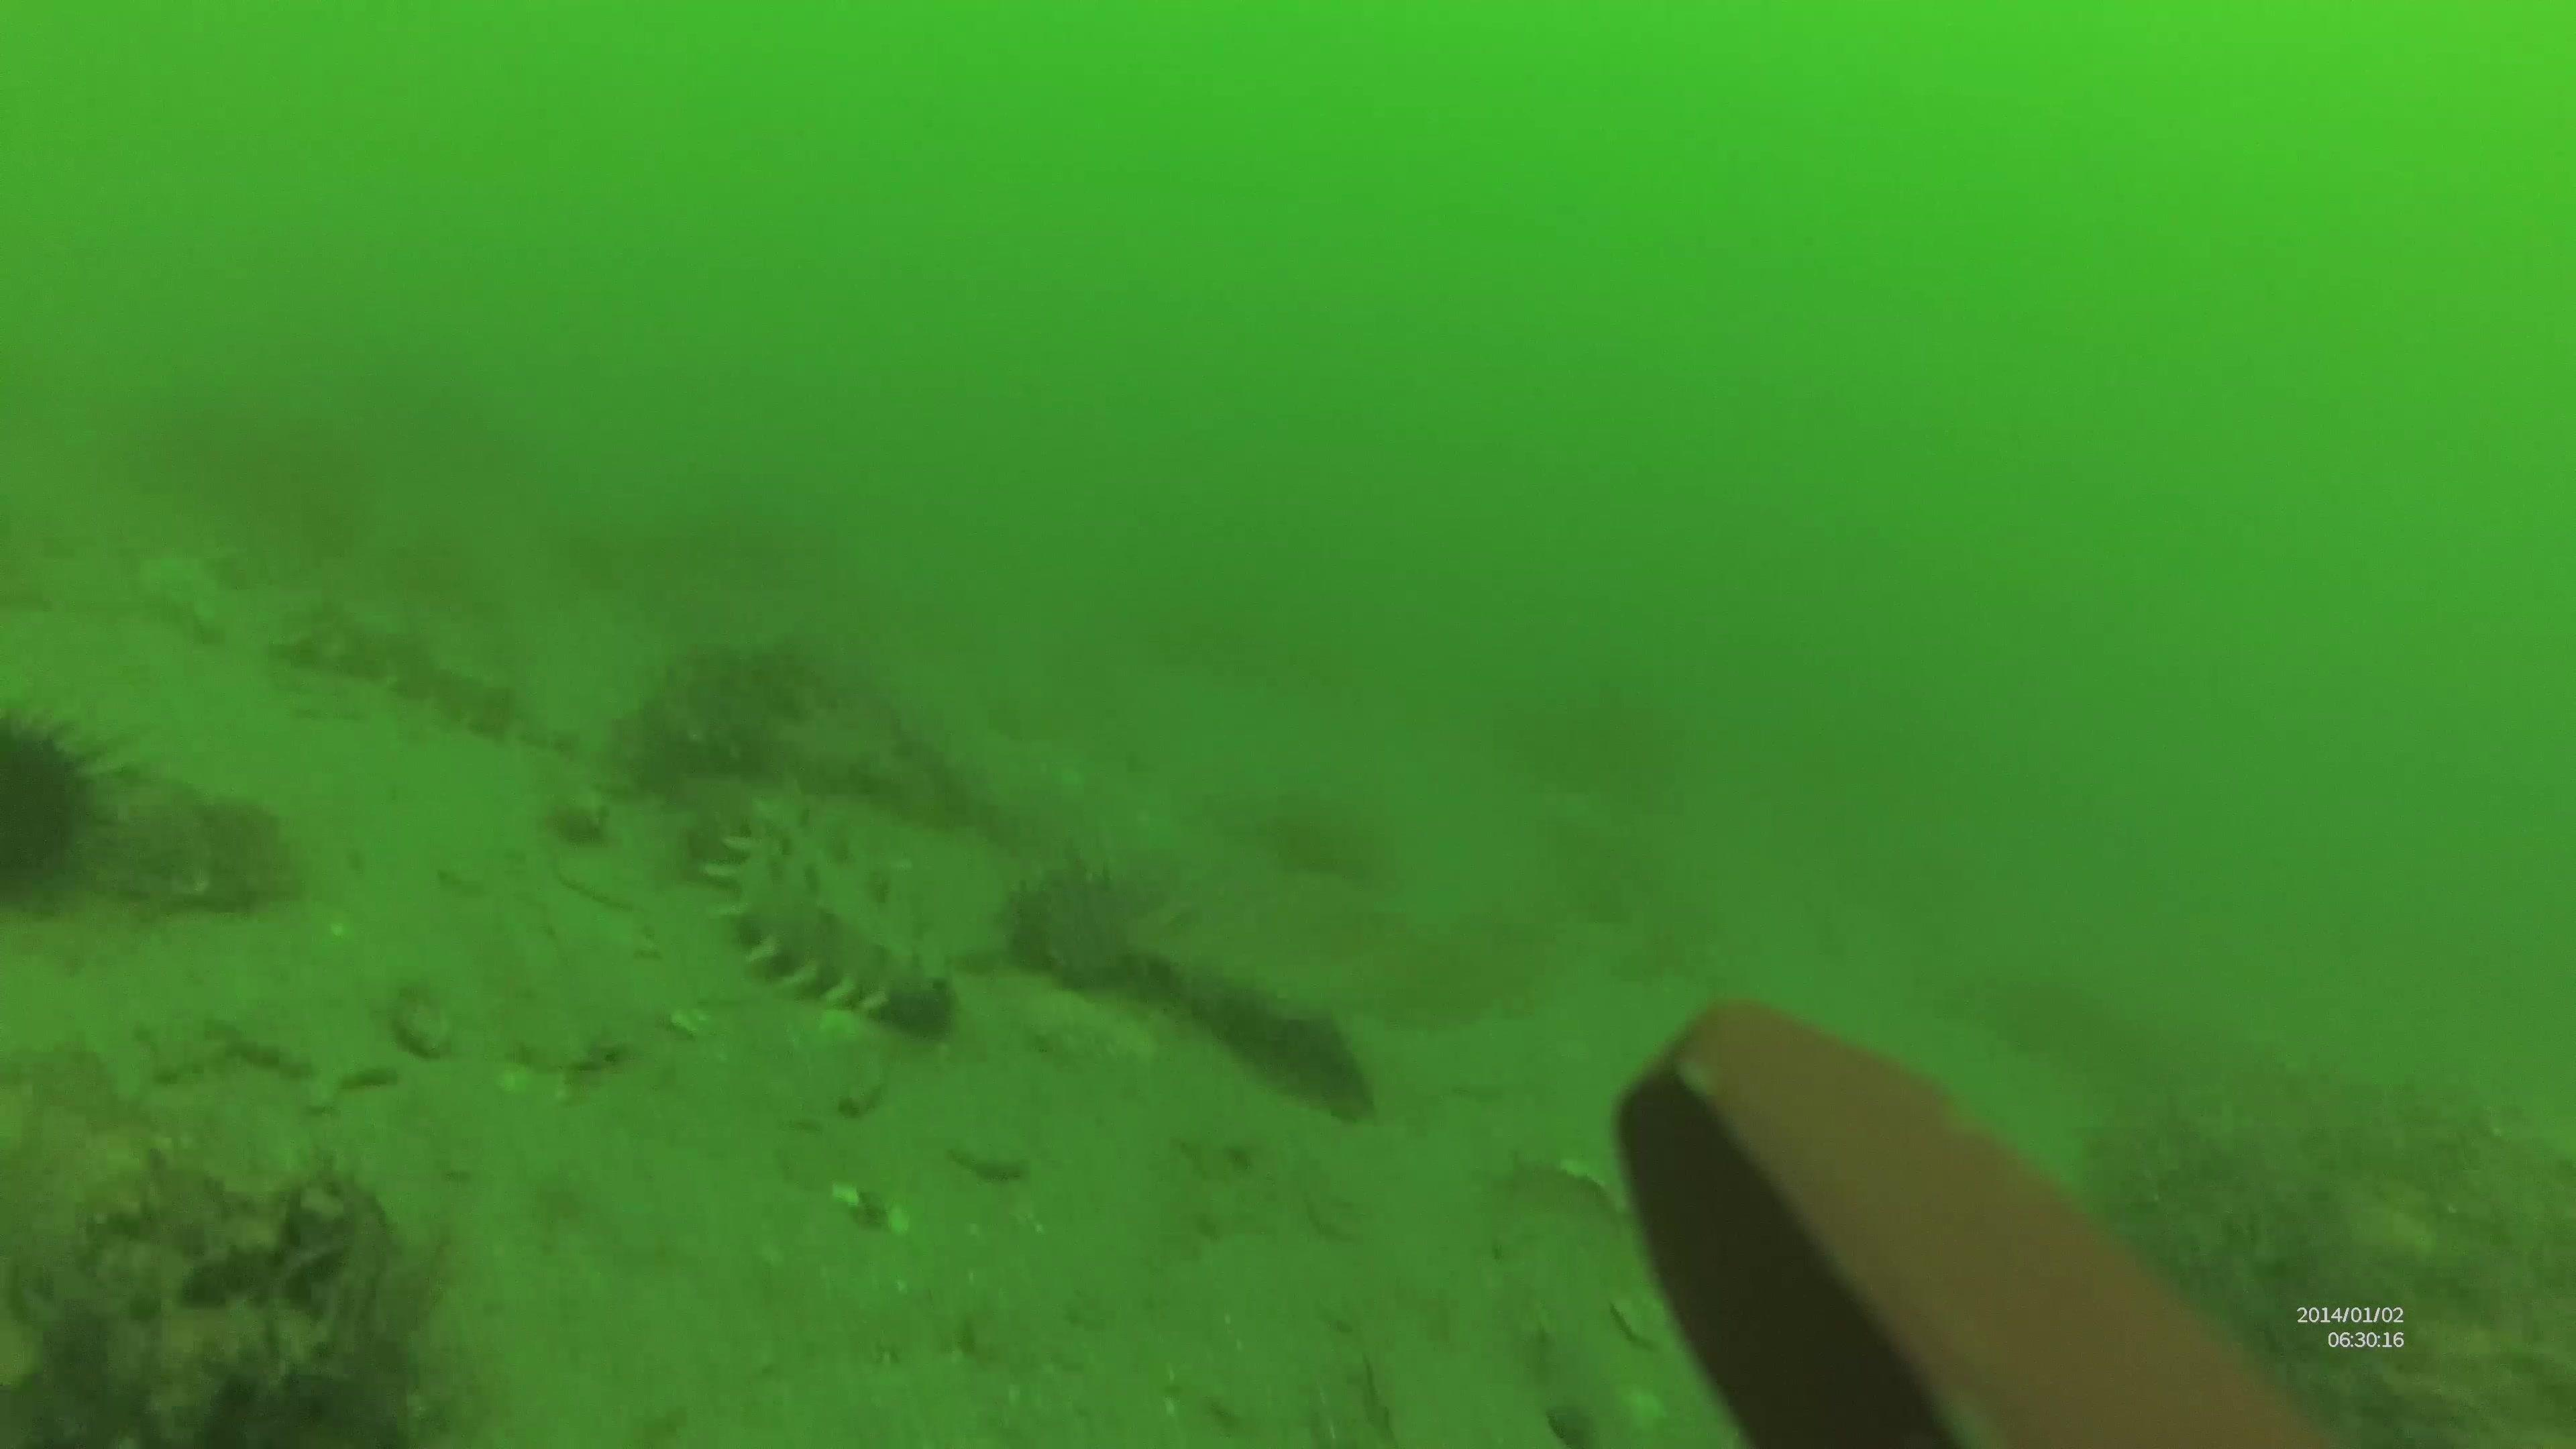echinus: (5, 706, 99, 922)
holothurian: (708, 809, 973, 1040), (278, 591, 559, 757)
